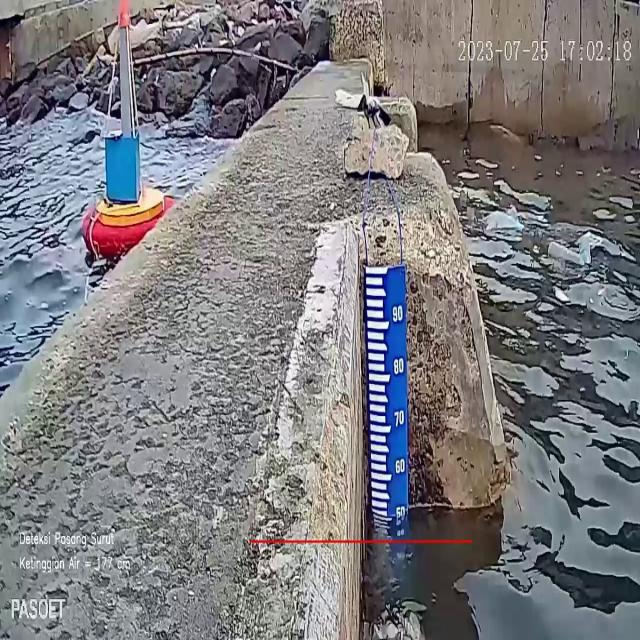60: (395, 457, 405, 474)
70: (393, 408, 405, 429)
80: (393, 358, 405, 375)
90: (392, 305, 404, 323)
staff: (367, 266, 408, 530)
